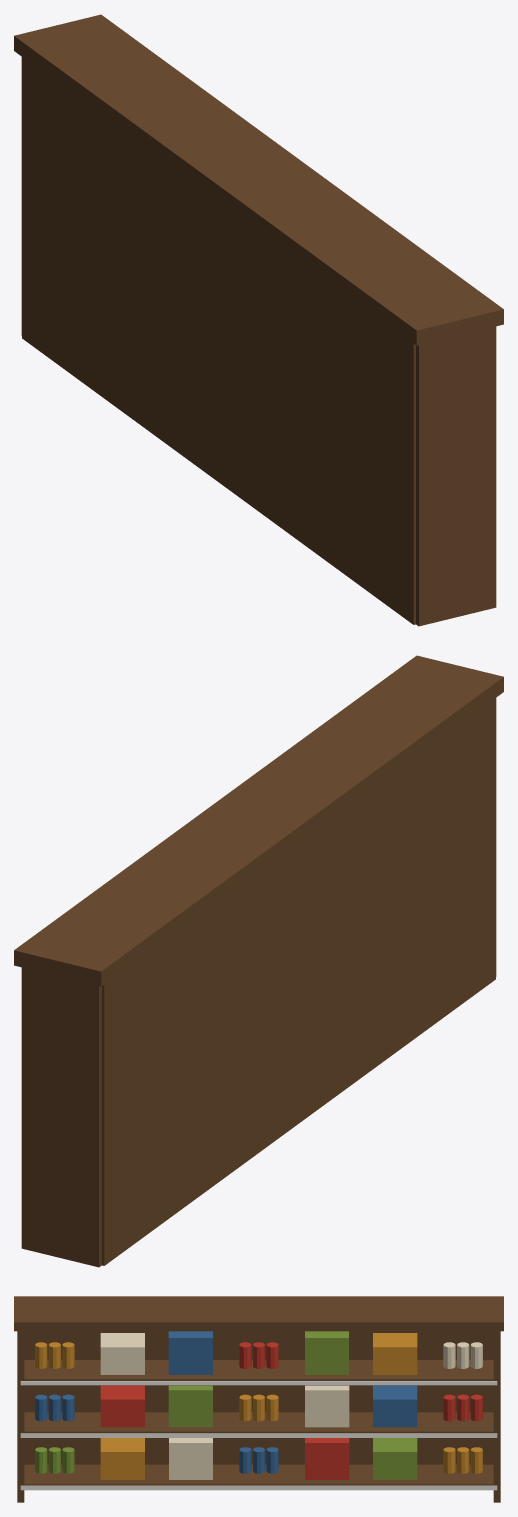
The model's file is shop-shelf.glb.
3 renders of one model, top to bottom at view 1: azimuth 30°, elevation 25°; view 2: azimuth 150°, elevation 25°; view 3: azimuth 270°, elevation 25°, orthographic. The views are drawn at different scales.
Visible parts, largest first — view 1: part-wood; view 2: part-wood; view 3: part-wood, part-price-strip, part-accent, part-goods-green, part-goods-cream, part-goods-blue, part-goods-red.
Boxes of the visible parts, bbox=[...] form: part-wood: bbox=[14, 14, 503, 626]; part-wood: bbox=[14, 655, 503, 1267]; part-wood: bbox=[14, 1296, 503, 1502]; part-price-strip: bbox=[20, 1381, 497, 1490]; part-accent: bbox=[35, 1333, 482, 1479]; part-goods-green: bbox=[35, 1331, 417, 1479]; part-goods-cream: bbox=[100, 1333, 482, 1479]; part-goods-blue: bbox=[35, 1331, 417, 1473]; part-goods-red: bbox=[100, 1342, 482, 1479].
Bounding box in the file's own units: 18 × 59 × 144.
